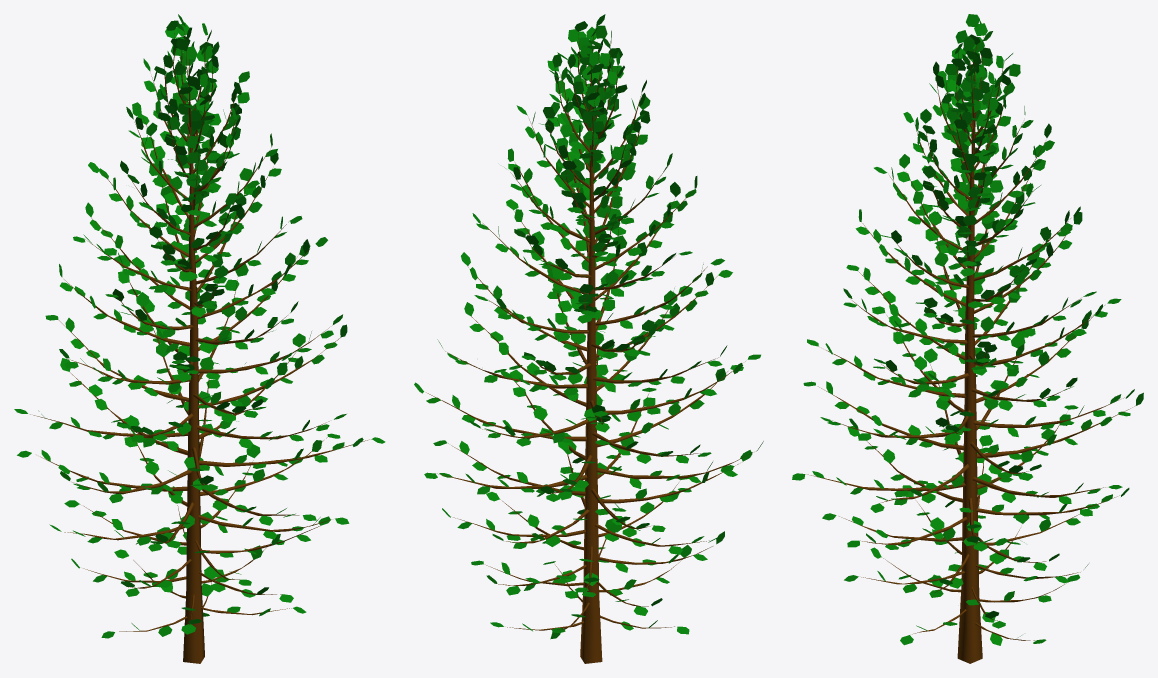
The picture shows the model from 3 angles, left to right: view 1: azimuth 30°, elevation 25°; view 2: azimuth 150°, elevation 25°; view 3: azimuth 270°, elevation 25°; orthographic projection.
Parts seen in each view (by area): view 1: tree_LOD0; view 2: tree_LOD0; view 3: tree_LOD0.
Part boxes in pixels (bbox=[...]): tree_LOD0: bbox=[14, 14, 385, 663]; tree_LOD0: bbox=[414, 14, 763, 663]; tree_LOD0: bbox=[792, 14, 1143, 663].
Size of what is drawn, in the model's own units: 867 by 1760 by 879.
